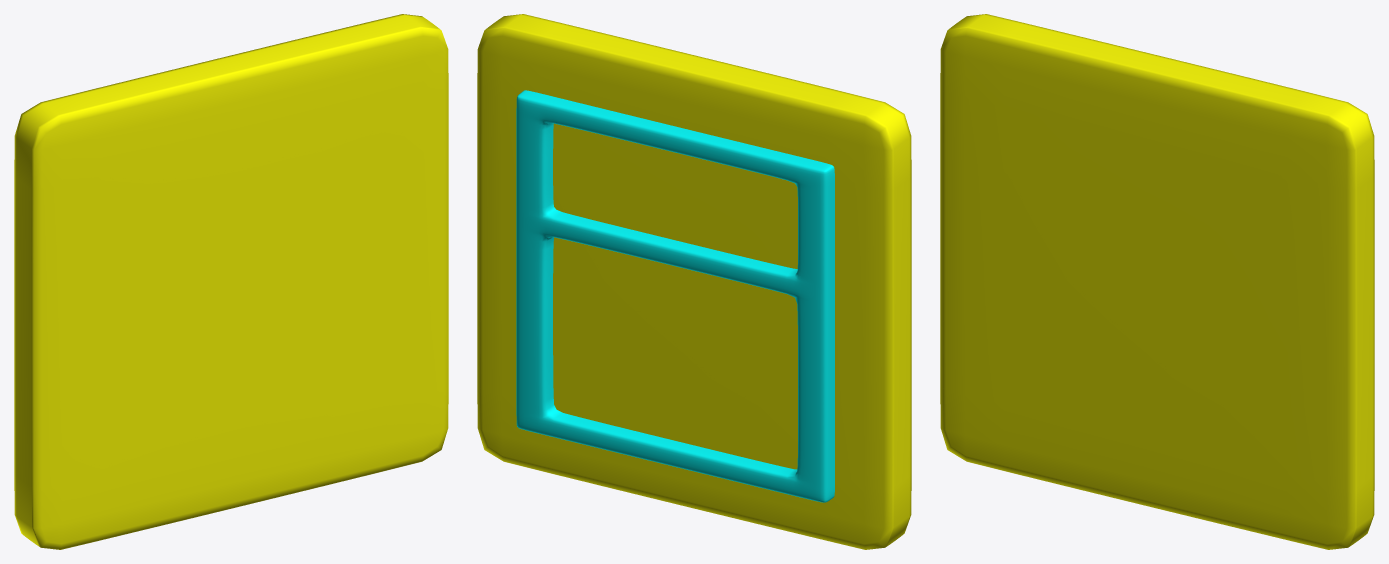
3 views of the same model, side by side, from view 1: azimuth 30°, elevation 25°; view 2: azimuth 150°, elevation 25°; view 3: azimuth 330°, elevation 25° (orthographic).
Parts seen in each view (by area): view 1: polySurface1001; view 2: polySurface1001; view 3: polySurface1001.
Part boxes in pixels (x1,y1,x2,y2): polySurface1001: (14,14,448,549); polySurface1001: (477,14,911,549); polySurface1001: (940,14,1374,549).
Size of the model in its own units: 0.9994 by 0.9994 by 0.1358.
